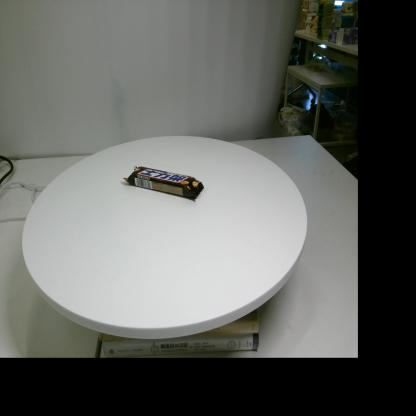Chocolate: (122, 166, 204, 199)
